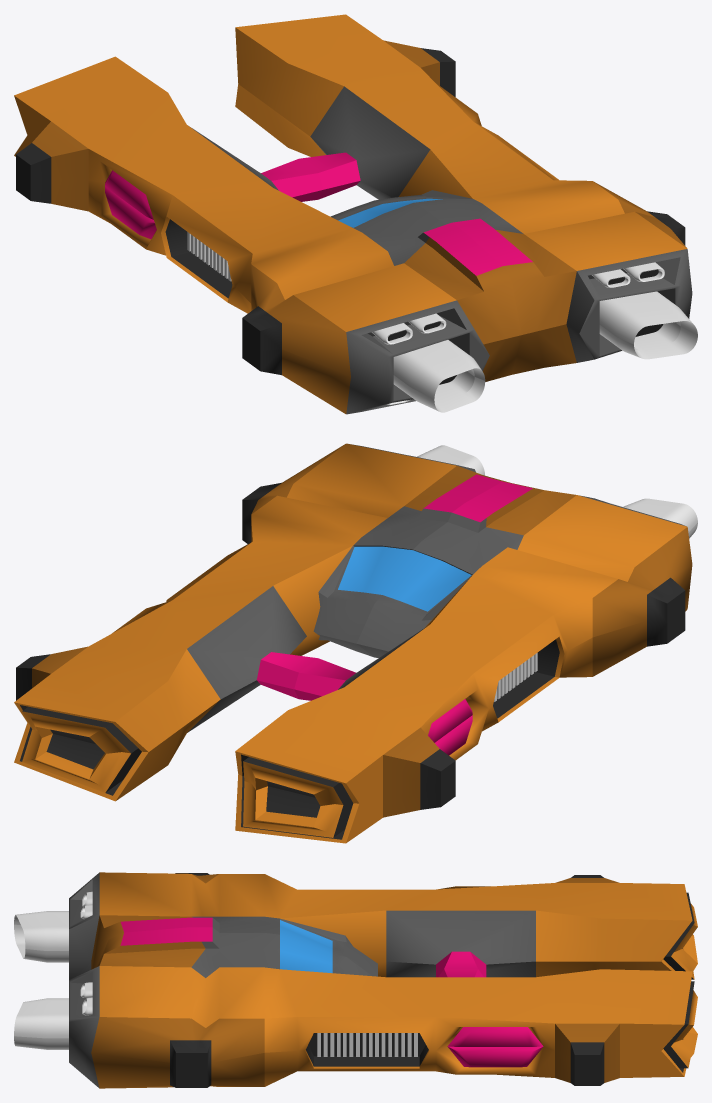
The model's file is gotek.fbx.
3 renders of one model, top to bottom at view 1: azimuth 30°, elevation 25°; view 2: azimuth 150°, elevation 25°; view 3: azimuth 270°, elevation 25°, orthographic. The views are drawn at different scales.
Parts seen in each view (by area): view 1: Cylinder.001; view 2: Cylinder.001; view 3: Cylinder.001.
Part boxes in pixels (x1,y1,x2,y2): Cylinder.001: (14, 14, 697, 414); Cylinder.001: (14, 443, 697, 843); Cylinder.001: (14, 872, 697, 1088).
Bounding box in the file's own units: 618 × 170 × 991.
